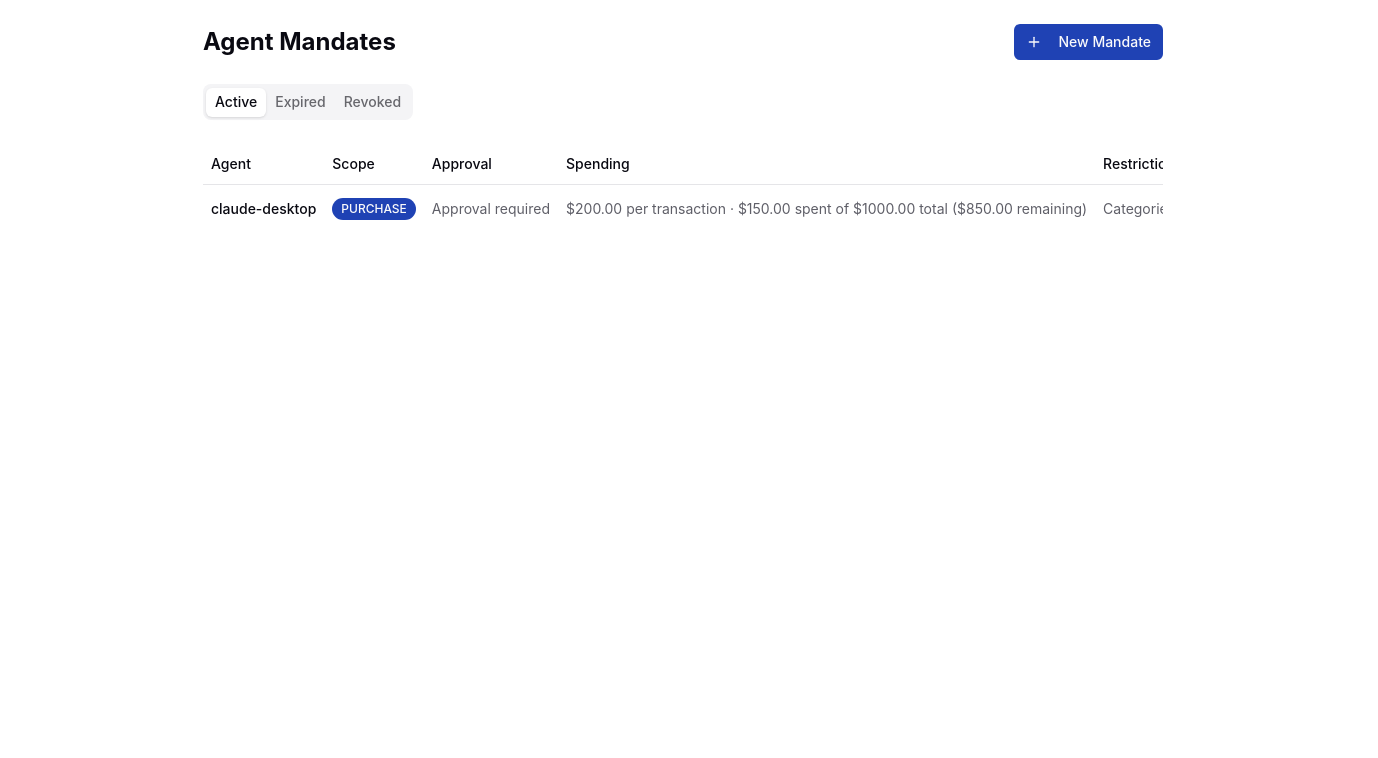
it: MandatesPage › shows create form when "New Mandate" clicked
This screenshot has width=1378, height=758.
Click the button "New Mandate".
click(1089, 42)  # box [1014, 24, 1163, 60]
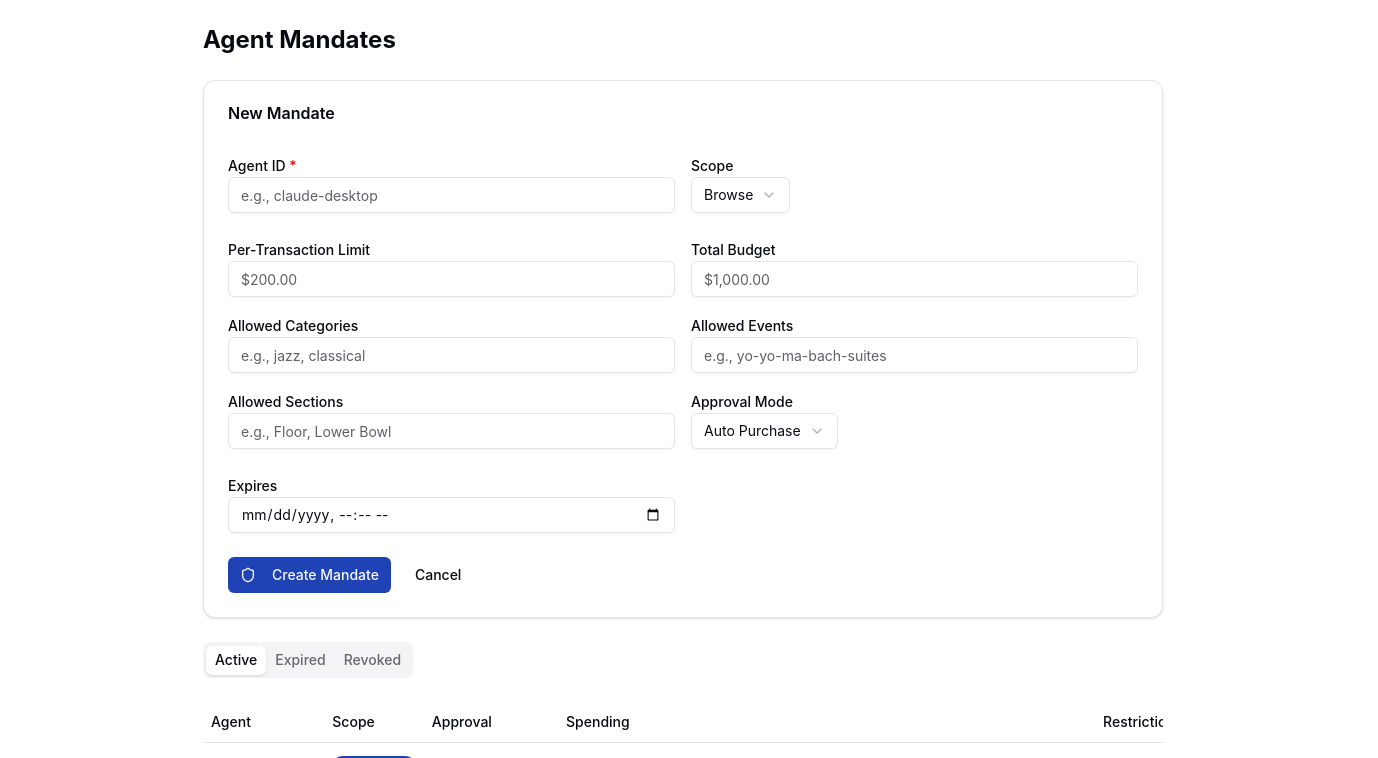
Expected: the field labelled "Agent ID *" is shown, [228, 177, 675, 213]
Expected: the dropdown named "Scope" is shown, [691, 177, 790, 213]
Expected: the number field labelled "Per-Transaction Limit" is shown, [228, 261, 675, 297]
